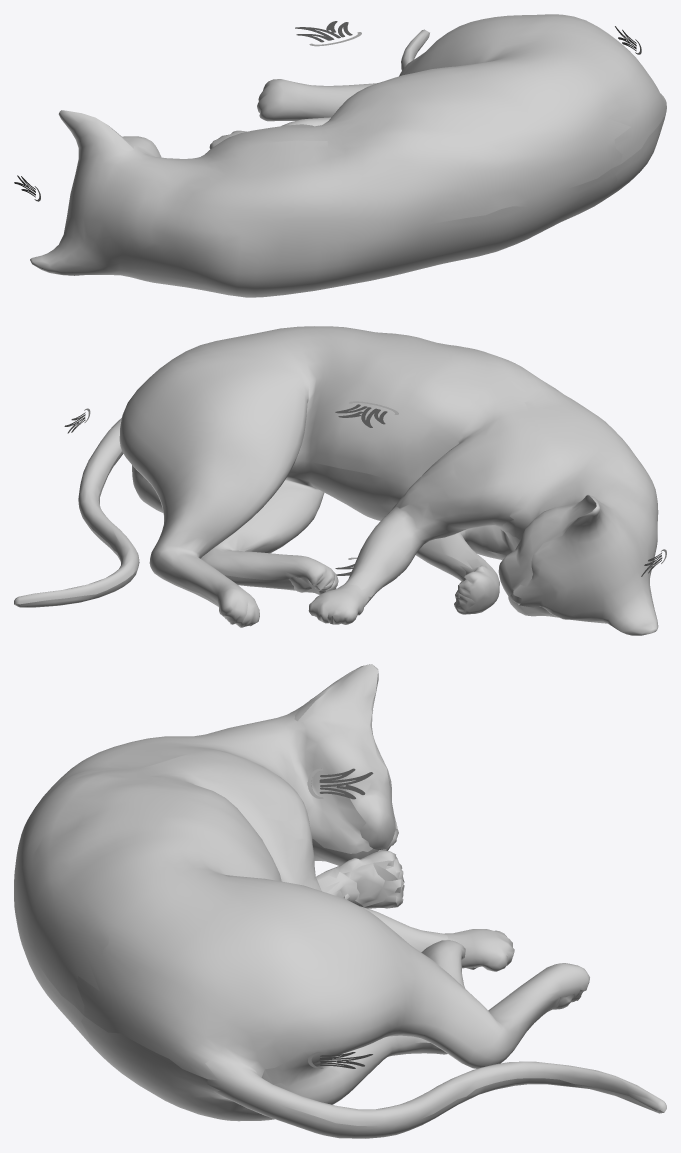
The picture shows the model from 3 angles, top to bottom: view 1: azimuth 30°, elevation 25°; view 2: azimuth 150°, elevation 25°; view 3: azimuth 270°, elevation 25°; orthographic projection. The views are drawn at different scales.
Visible parts, largest first — view 1: xiadele_CAT, image_2; view 2: xiadele_CAT, image_2; view 3: xiadele_CAT, image_2.
Part boxes in pixels (x1,y1,x2,y2): xiadele_CAT: (30,14,666,297); image_2: (295,21,361,46); xiadele_CAT: (14,326,658,635); image_2: (335,401,398,427); xiadele_CAT: (14,664,666,1138); image_2: (307,768,373,799).
Size of the model in its own units: 477 by 370 by 124.
